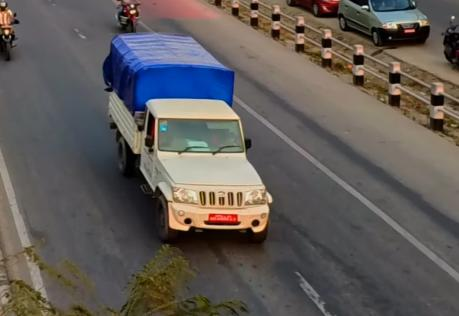bike: (0, 0, 20, 66), (110, 0, 142, 34)
scooter: (440, 15, 459, 71)
taxi: (339, 0, 430, 50)
transport_vehicle: (100, 26, 276, 245)
